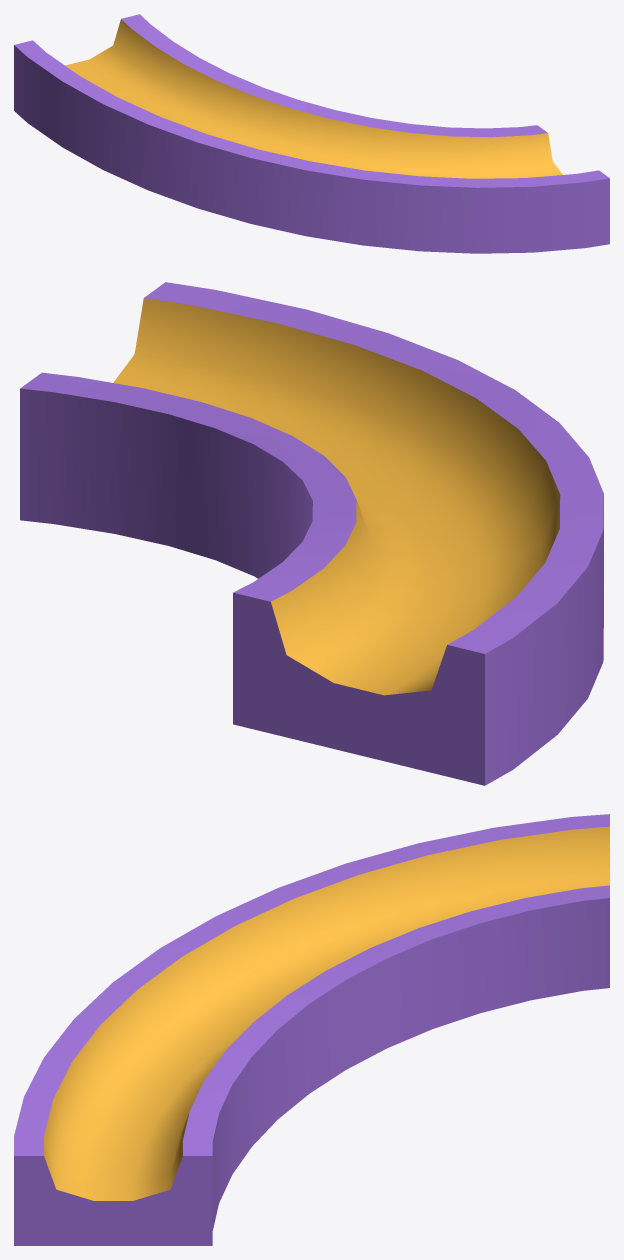
Rendered from helix-large-quarter-right-col.glb.
3 renders of one model, top to bottom at view 1: azimuth 30°, elevation 25°; view 2: azimuth 150°, elevation 25°; view 3: azimuth 270°, elevation 25°, orthographic. The views are drawn at different scales.
Visible parts, largest first — view 1: helix-large-quarter-right-col; view 2: helix-large-quarter-right-col; view 3: helix-large-quarter-right-col.
Part boxes in pixels (x1,y1,x2,y2): helix-large-quarter-right-col: [14, 14, 609, 253]; helix-large-quarter-right-col: [20, 282, 603, 785]; helix-large-quarter-right-col: [14, 814, 609, 1245].
Bounding box in the file's own units: 3 × 1 × 3.
Materials: 1 (1 with a texture image).
